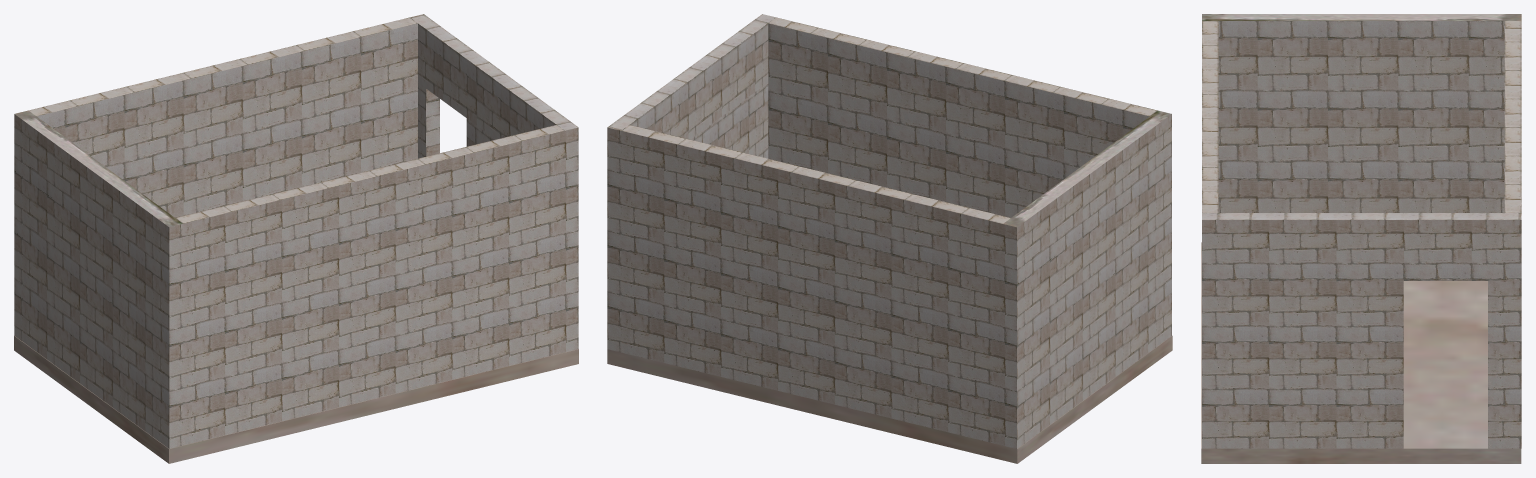
Rendered from conshouse.dae.
3 renders of one model, left to right at view 1: azimuth 30°, elevation 25°; view 2: azimuth 150°, elevation 25°; view 3: azimuth 270°, elevation 25°, orthographic. The views are drawn at different scales.
Parts seen in each view (by area): view 1: Cube, Cube.001; view 2: Cube, Cube.001; view 3: Cube, Cube.001.
Part boxes in pixels (left/top/right/bottom): Cube: left=14, top=14, right=578, bottom=448; Cube.001: left=14, top=335, right=578, bottom=463; Cube: left=607, top=14, right=1171, bottom=448; Cube.001: left=607, top=335, right=1172, bottom=463; Cube: left=1202, top=14, right=1521, bottom=448; Cube.001: left=1201, top=242, right=1521, bottom=463.
Size of the model in its own units: 14.51 by 9.51 by 8.
